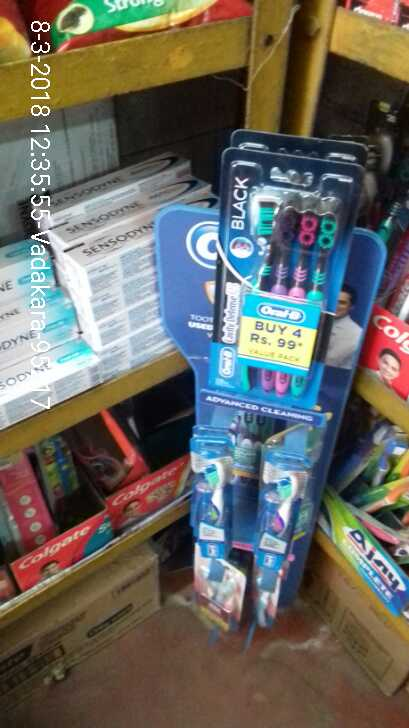oralb: (209, 127, 368, 410)
